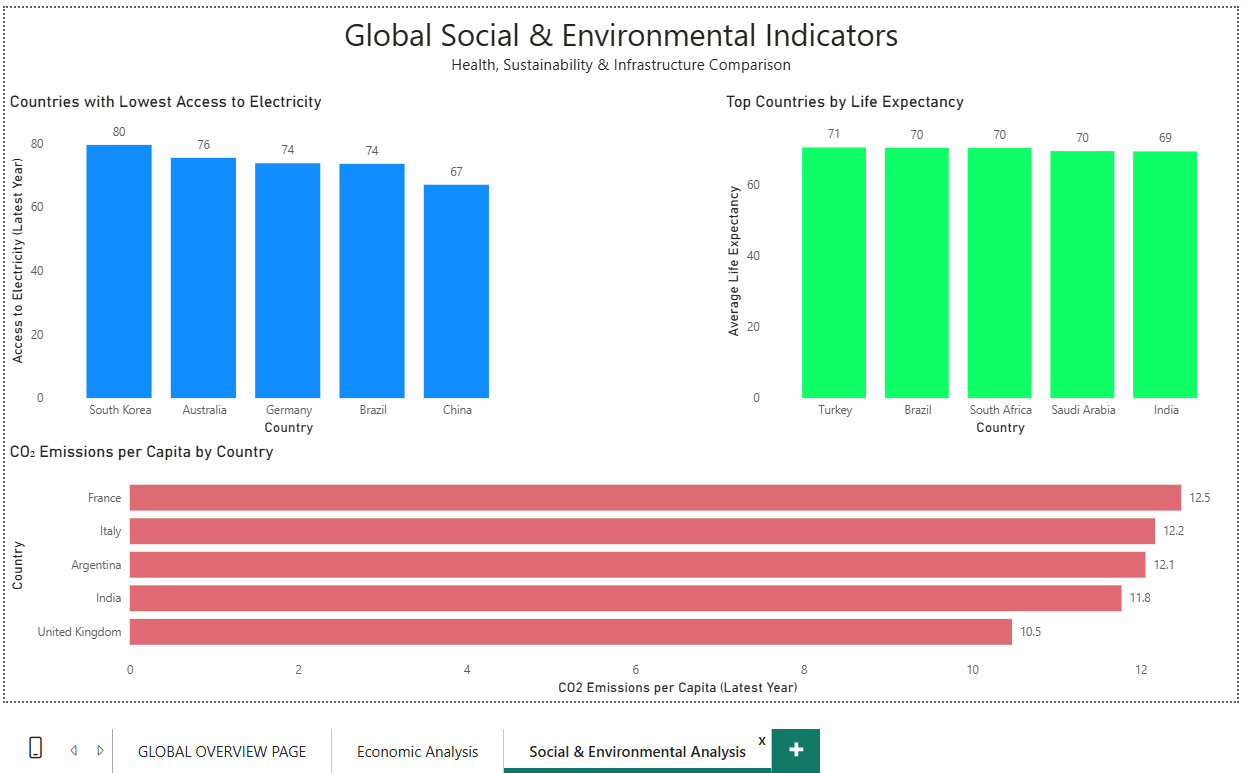

The dashboard page shown, as its layout file describes it:
{"tool":"powerbi","page":{"name":"Social & Environmental Analysis","canvas":[1280,720],"ordinal":2},"visuals":[{"type":"textbox","box":[0,0,1280.5,87],"z":0},{"type":"columnChart","title":"Top Countries by Life Expectancy","fields":{"Y":["world_bank_dataset.Average Life Expectancy"],"Category":["world_bank_dataset.Country"]},"box":[744.2,87,536.4,362.3],"z":1},{"type":"barChart","title":"CO₂ Emissions per Capita by Country","fields":{"Category":["world_bank_dataset.Country"],"Y":["world_bank_dataset.CO2 Emissions per Capita (Latest Year)"]},"box":[0,449.4,1280.5,270.1],"z":2},{"type":"columnChart","title":"Countries with Lowest Access to Electricity","fields":{"Category":["world_bank_dataset.Country"],"Y":["world_bank_dataset.Access to Electricity (Latest Year)"]},"box":[0,87,545.5,362.3],"z":3}]}

Visuals, with their boxes on the page's 1280x720 design canvas (x1, y1, x2, y2). These are canvas units, not pixel positions in the 1251x773 screenshot, which may show the page scaled, cropped or inside an application window:
textbox: left=0, top=0, right=1280, bottom=87
"Top Countries by Life Expectancy" columnChart: left=744, top=87, right=1281, bottom=449
"CO₂ Emissions per Capita by Country" barChart: left=0, top=449, right=1280, bottom=720
"Countries with Lowest Access to Electricity" columnChart: left=0, top=87, right=546, bottom=449
